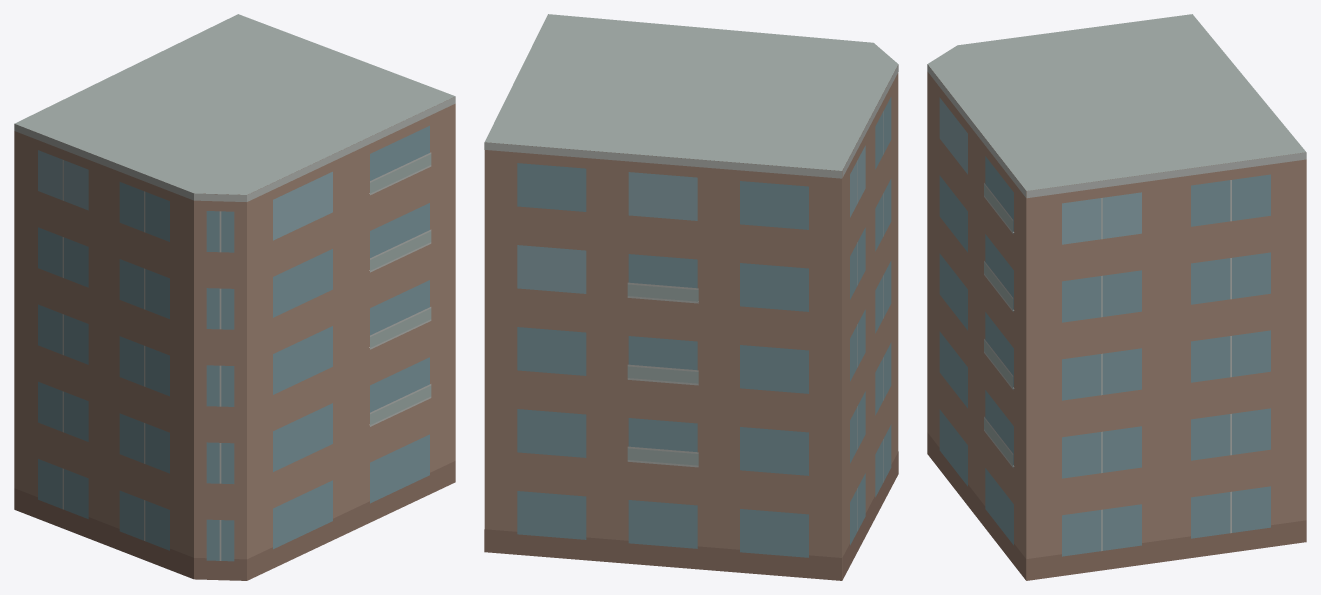
The model's file is survey-upis-32740928.glb.
3 views of the same model, side by side, from view 1: azimuth 30°, elevation 25°; view 2: azimuth 150°, elevation 25°; view 3: azimuth 270°, elevation 25° (orthographic). The views are drawn at different scales.
Visible parts, largest first — view 1: survey-upis-32740928.tmp; view 2: survey-upis-32740928.tmp; view 3: survey-upis-32740928.tmp.
Part boxes in pixels (bbox=[...]): survey-upis-32740928.tmp: bbox=[14, 14, 455, 580]; survey-upis-32740928.tmp: bbox=[484, 14, 898, 580]; survey-upis-32740928.tmp: bbox=[927, 14, 1306, 580].
Size of the model in its own units: 12.77 by 13.1 by 11.55.
